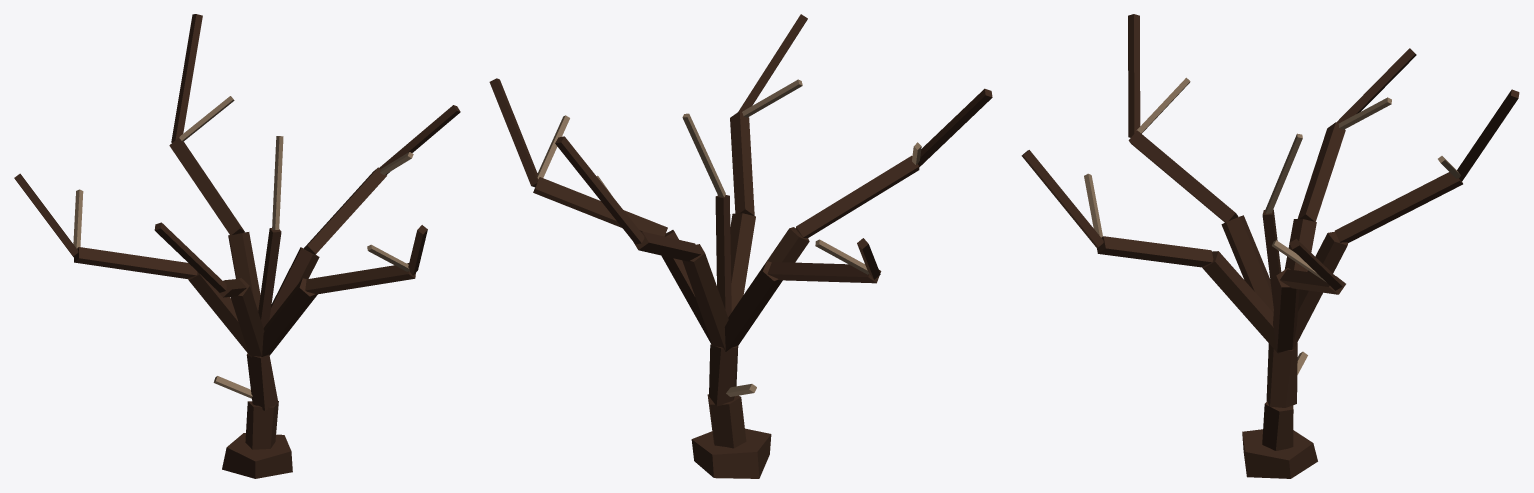
File: dead_tree.glb
3 views of the same model, side by side, from view 1: azimuth 30°, elevation 25°; view 2: azimuth 150°, elevation 25°; view 3: azimuth 270°, elevation 25° (orthographic). The views are drawn at different scales.
Parts seen in each view (by area): view 1: dead_tree; view 2: dead_tree; view 3: dead_tree.
Boxes of the visible parts, x1,y1,x2,y2 form: dead_tree: (14,14,460,478); dead_tree: (489,14,992,478); dead_tree: (1021,14,1519,478).
Bounding box in the file's own units: 6.28 × 5.59 × 6.27.
